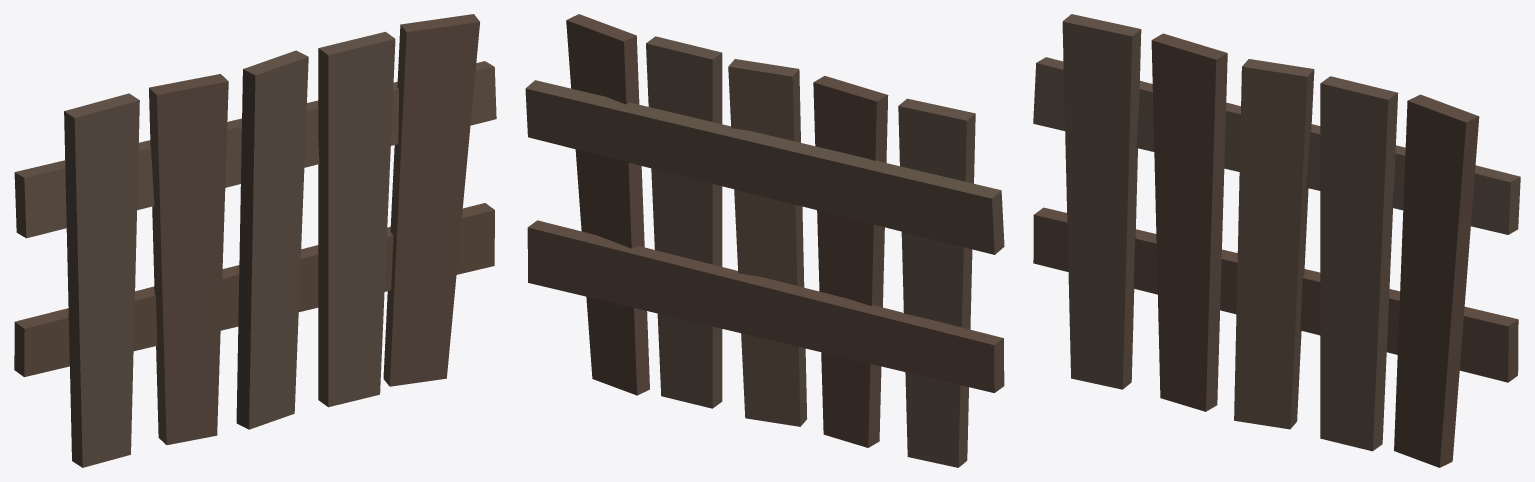
Rendered from fence.fbx.
3 renders of one model, left to right at view 1: azimuth 30°, elevation 25°; view 2: azimuth 150°, elevation 25°; view 3: azimuth 330°, elevation 25°, orthographic.
Visible parts, largest first — view 1: pCube46, pCube45, pCube43, pCube47, pCube44, pCube50, pCube49; view 2: pCube49, pCube50, pCube45, pCube47, pCube44, pCube46, pCube43; view 3: pCube45, pCube47, pCube44, pCube43, pCube46, pCube50, pCube49.
Boxes of the visible parts, bbox=[...] form: pCube46: bbox=[383, 14, 479, 386]; pCube45: bbox=[318, 31, 395, 407]; pCube43: bbox=[149, 74, 228, 444]; pCube47: bbox=[64, 93, 139, 467]; pCube44: bbox=[236, 50, 308, 429]; pCube50: bbox=[14, 203, 494, 377]; pCube49: bbox=[14, 61, 496, 238]; pCube49: bbox=[525, 80, 1004, 254]; pCube50: bbox=[527, 220, 1004, 392]; pCube45: bbox=[646, 36, 722, 408]; pCube47: bbox=[898, 98, 975, 467]; pCube44: bbox=[728, 59, 807, 426]; pCube46: bbox=[566, 14, 649, 395]; pCube43: bbox=[813, 76, 888, 447]; pCube45: bbox=[1320, 76, 1398, 451]; pCube47: bbox=[1062, 14, 1141, 389]; pCube44: bbox=[1234, 59, 1314, 429]; pCube43: bbox=[1151, 33, 1227, 411]; pCube46: bbox=[1394, 94, 1479, 467]; pCube50: bbox=[1033, 207, 1518, 382]; pCube49: bbox=[1033, 57, 1520, 234].
Size of the model in its own units: 14.19 by 10.12 by 1.28.
